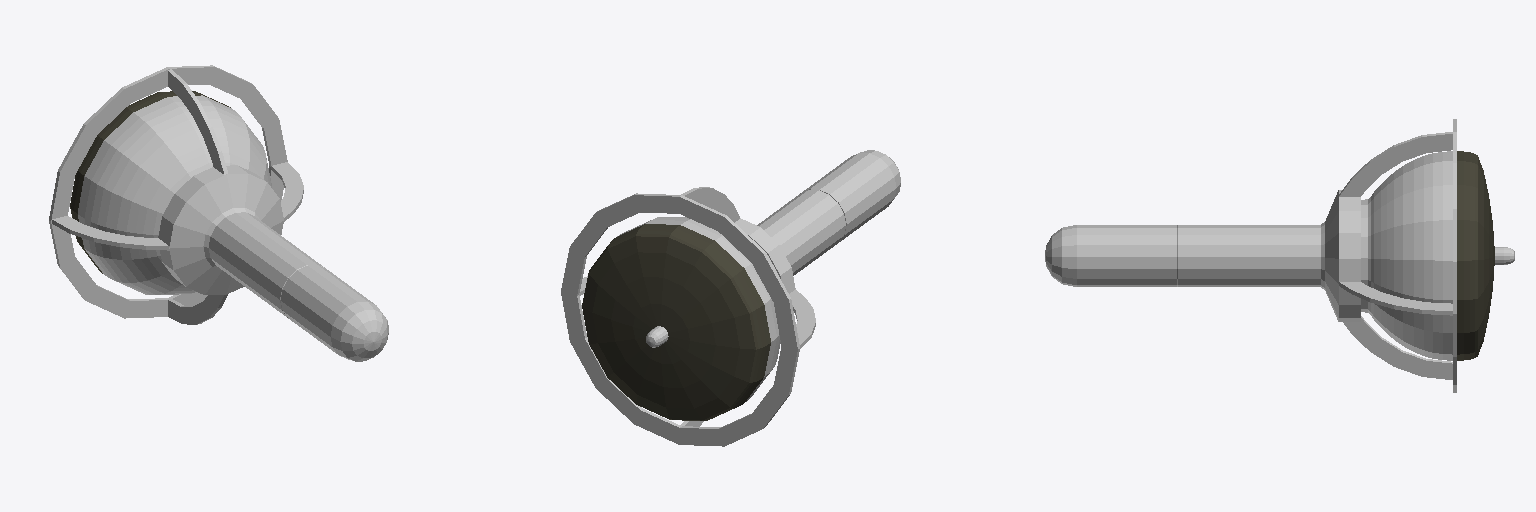
Rendered from Urbi_3.obj.
3 renders of one model, left to right at view 1: azimuth 30°, elevation 25°; view 2: azimuth 150°, elevation 25°; view 3: azimuth 270°, elevation 25°, orthographic.
Visible parts, largest first — view 1: Lampenkopf.010_BezierCurve.046, Strebe.001_BezierCurve.049, Lampenglas.001_BezierCurve.037; view 2: Lampenglas.001_BezierCurve.037, Lampenkopf.010_BezierCurve.046, Strebe.001_BezierCurve.049; view 3: Lampenkopf.010_BezierCurve.046, Lampenglas.001_BezierCurve.037, Strebe.001_BezierCurve.049.
Part boxes in pixels (x1,y1,x2,y2): Lampenkopf.010_BezierCurve.046: (49,65,388,361); Strebe.001_BezierCurve.049: (52,69,303,324); Lampenglas.001_BezierCurve.037: (70,91,230,273); Lampenglas.001_BezierCurve.037: (582,224,770,420); Lampenkopf.010_BezierCurve.046: (561,150,900,446); Strebe.001_BezierCurve.049: (579,187,815,426); Lampenkopf.010_BezierCurve.046: (1045,119,1514,392); Lampenglas.001_BezierCurve.037: (1457,151,1494,360); Strebe.001_BezierCurve.049: (1339,132,1452,379).
Size of the model in its own units: 0.6559 by 0.6559 by 1.13.